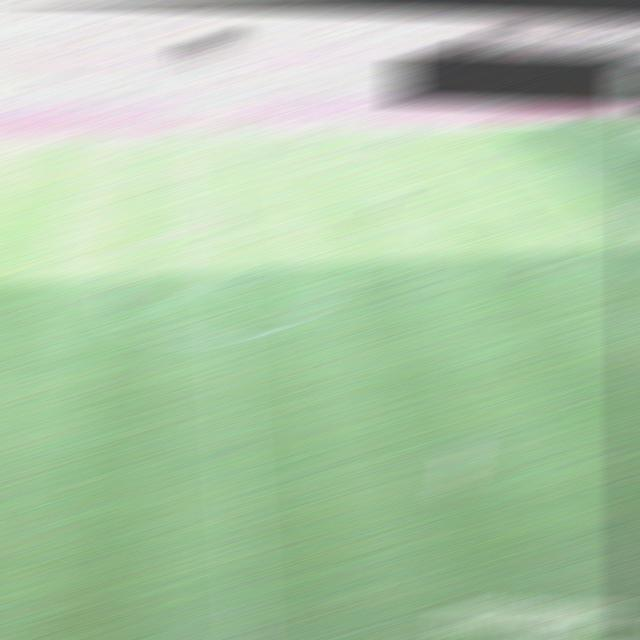bigarea_top_inner: (532, 163, 561, 170)
corner: (607, 120, 638, 126)
halfcircle_bottom: (212, 336, 242, 343)
halfcircle_top: (205, 224, 235, 230)
midline_top_intersection: (198, 136, 228, 142)
top_arc_area_intersection: (584, 212, 614, 220)
